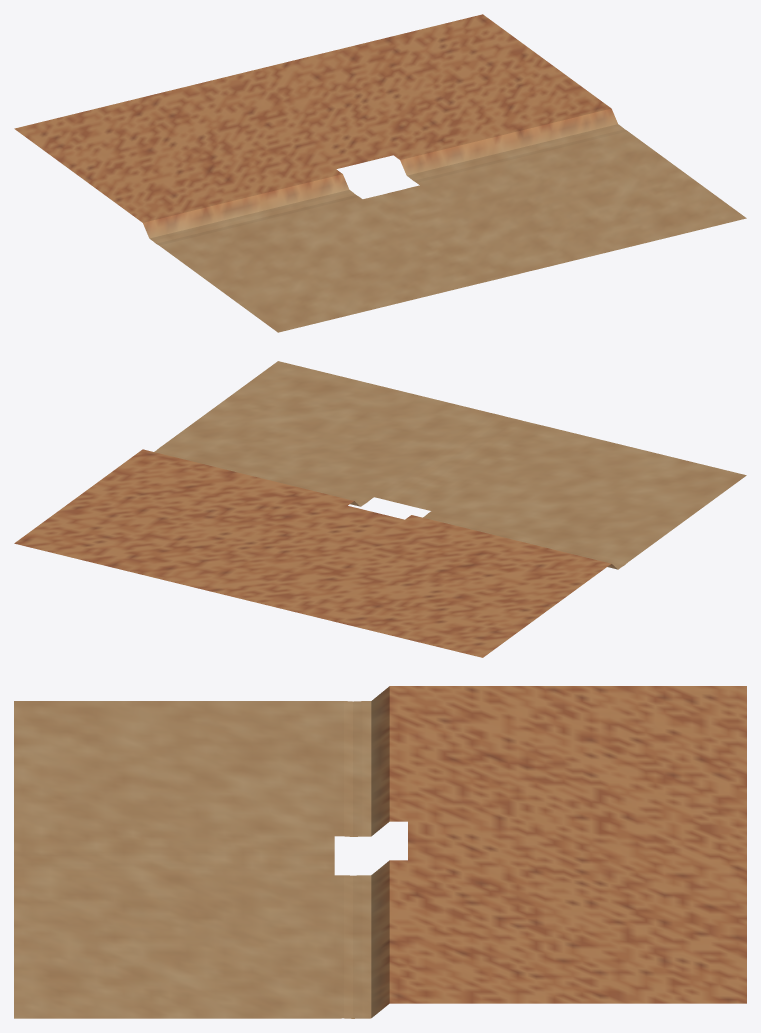
File: backdrop_ground.glb
3 views of the same model, one above another, from view 1: azimuth 30°, elevation 25°; view 2: azimuth 150°, elevation 25°; view 3: azimuth 270°, elevation 25° (orthographic). The views are drawn at different scales.
Parts seen in each view (by area): view 1: FarGround; view 2: FarGround; view 3: FarGround.
Boxes of the visible parts, x1,y1,x2,y2 form: FarGround: (14, 14, 746, 332); FarGround: (14, 361, 746, 657); FarGround: (14, 686, 746, 1018).
Size of the model in its own units: 1640 by 37.2 by 1600.
